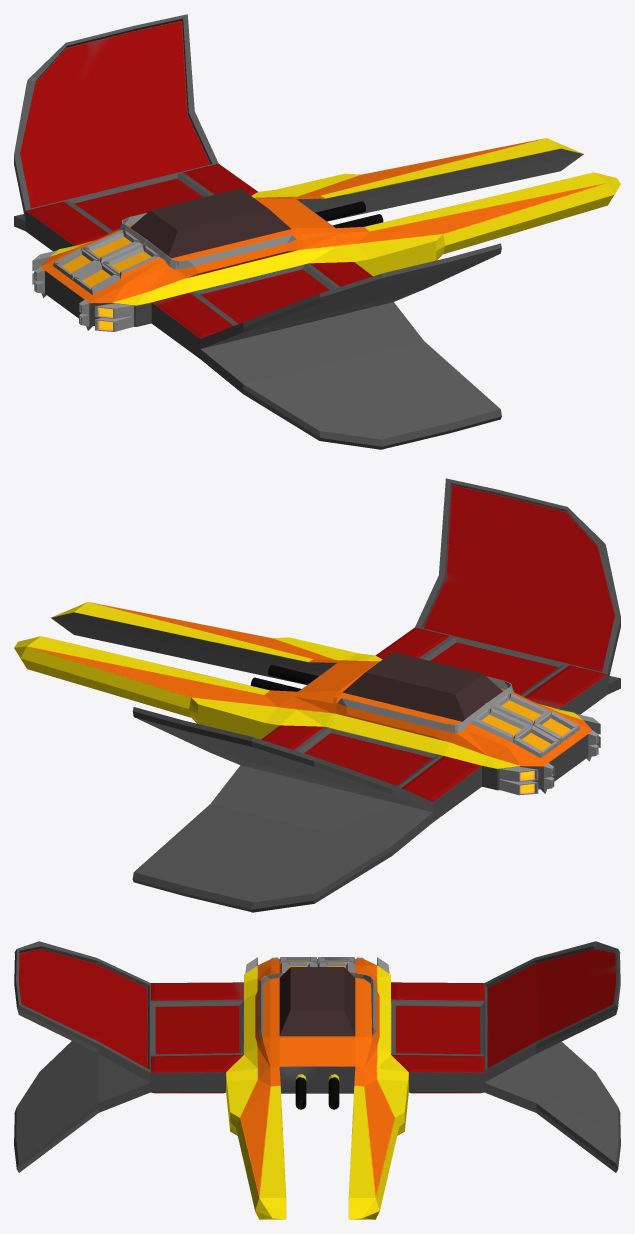
Rendered from ship_player_tex.fbx.
3 views of the same model, one above another, from view 1: azimuth 30°, elevation 25°; view 2: azimuth 150°, elevation 25°; view 3: azimuth 270°, elevation 25° (orthographic). The views are drawn at different scales.
Parts seen in each view (by area): view 1: Player_ship.001; view 2: Player_ship.001; view 3: Player_ship.001.
Boxes of the visible parts, left/top/right/bottom form: Player_ship.001: left=14, top=14, right=620, bottom=449; Player_ship.001: left=14, top=478, right=620, bottom=912; Player_ship.001: left=14, top=941, right=620, bottom=1219.
Bounding box in the file's own units: 562 × 174 × 570.
Materials: 1 (1 with a texture image).
